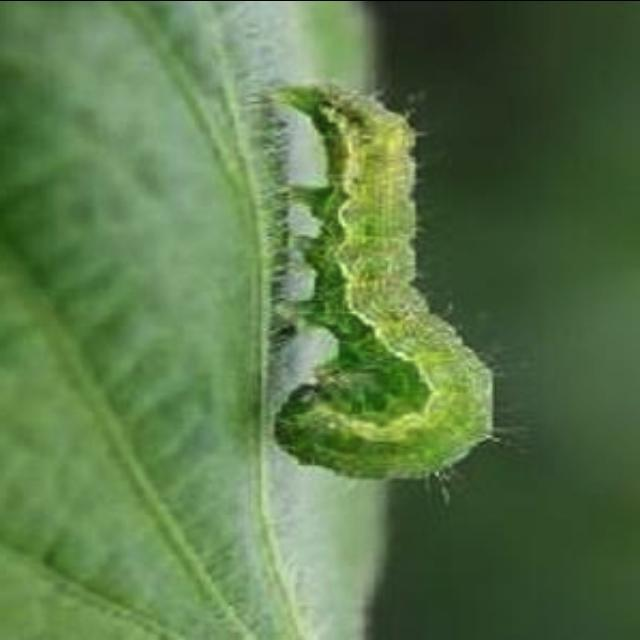Cotton bollworm: (218, 59, 538, 490)
